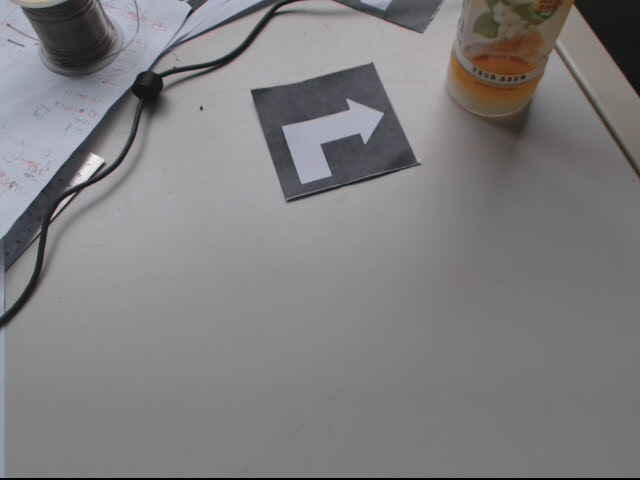right: (251, 62, 422, 201)
